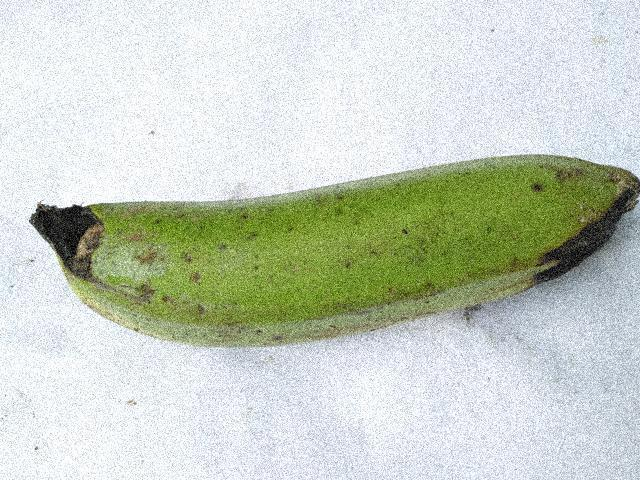unripe: (28, 110, 529, 347)
